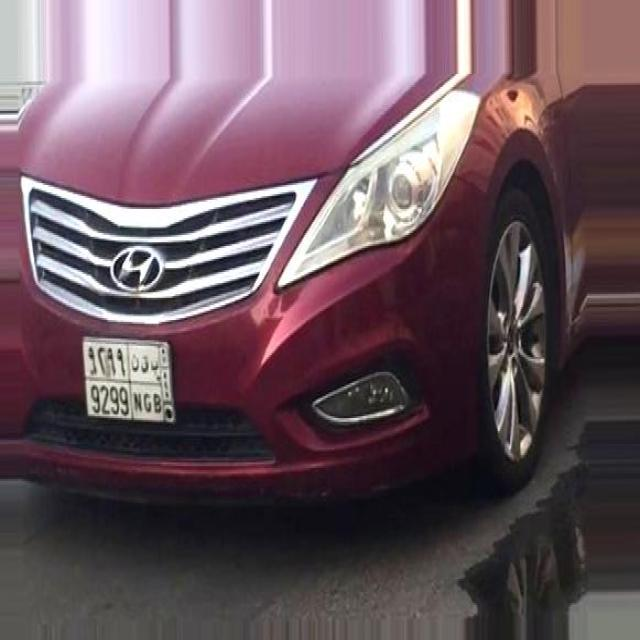Car-plate: (76, 325, 186, 431)
